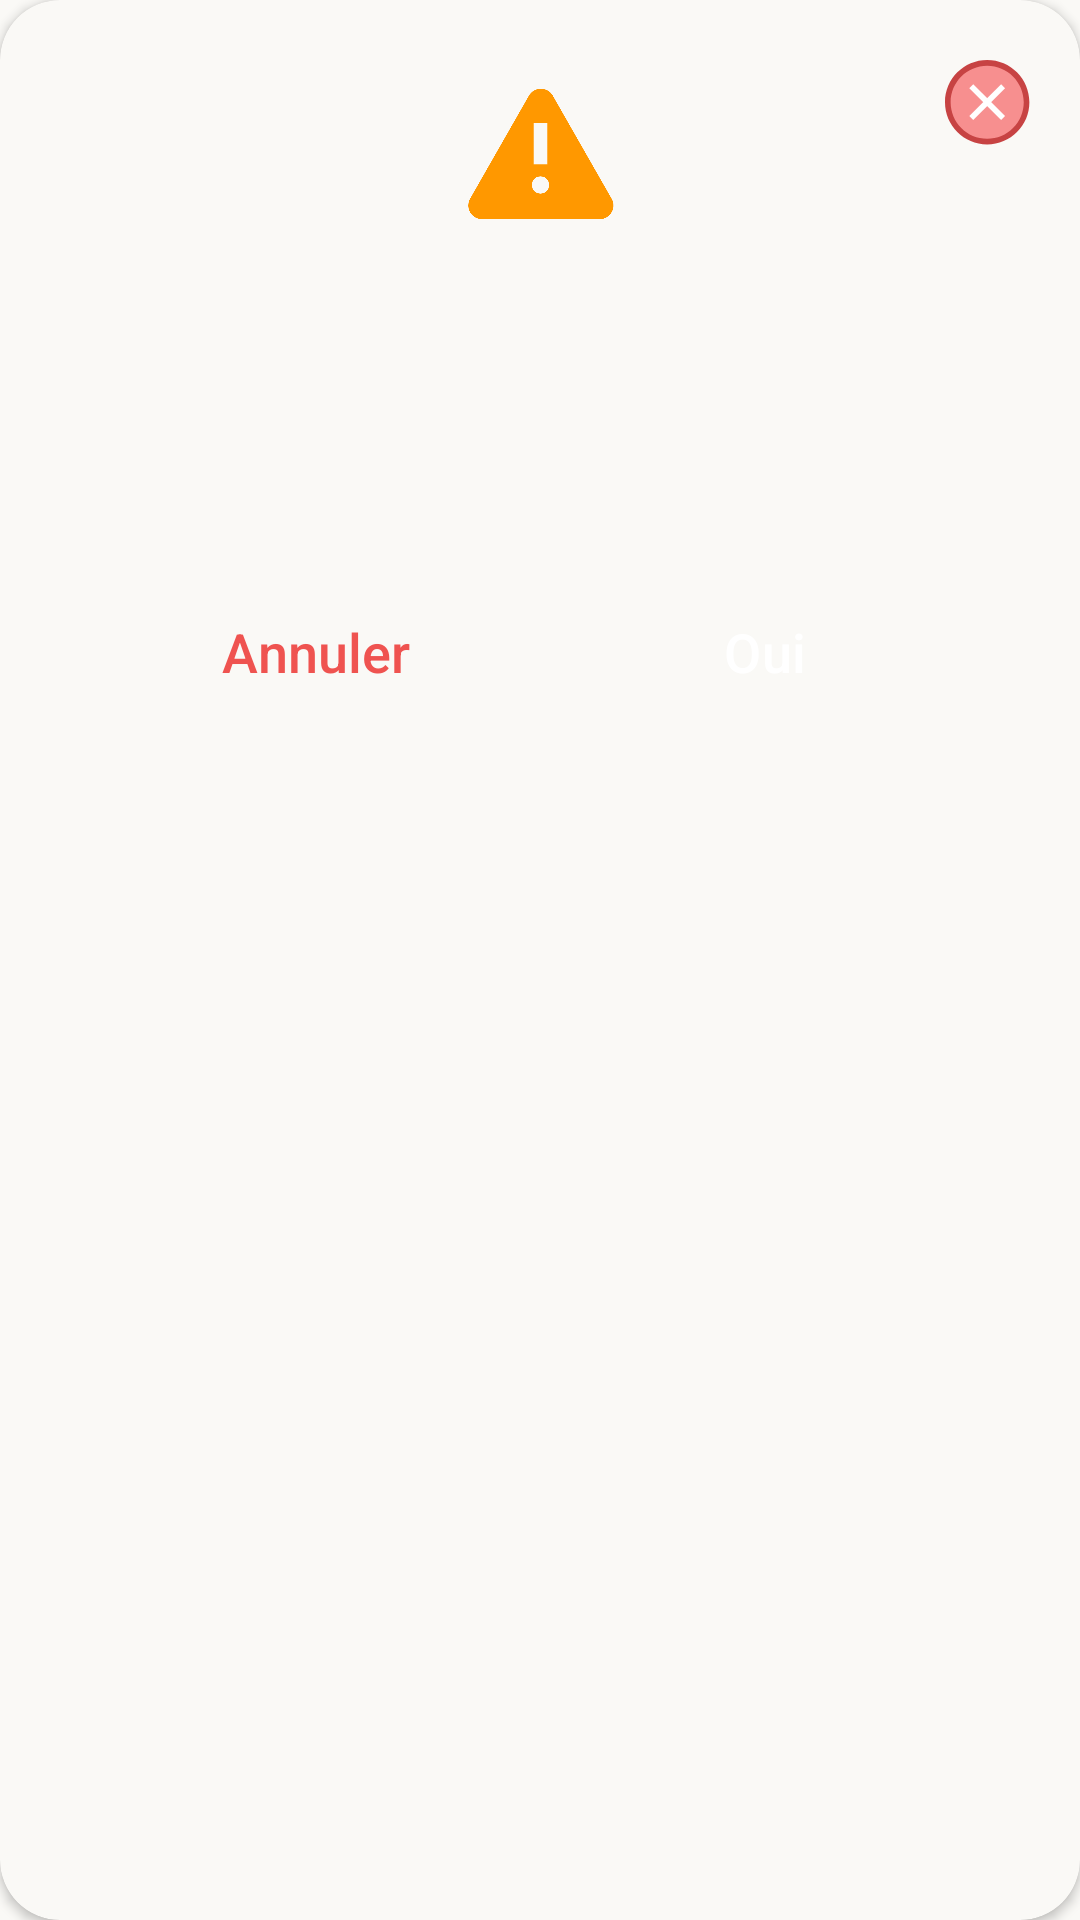

Named icons in this screenshot (1080px×1920px) and their centers, (x,y):
cancel: (987,102)
warning: (541,154)
